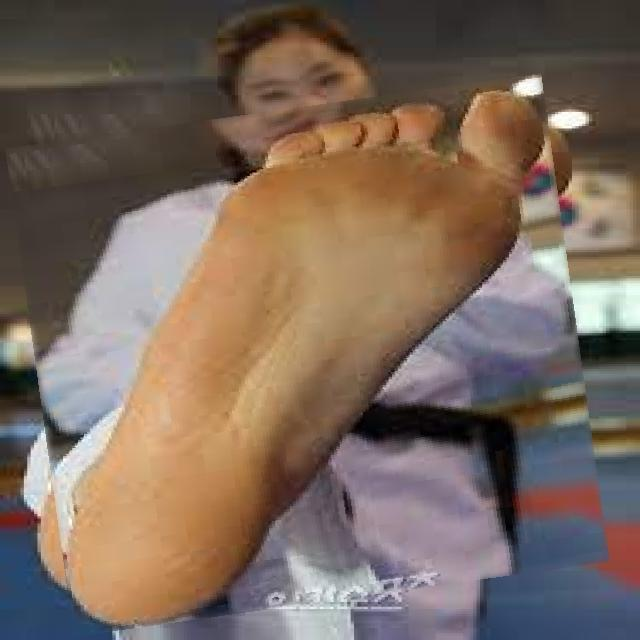Barefoots: (0, 66, 588, 640)
